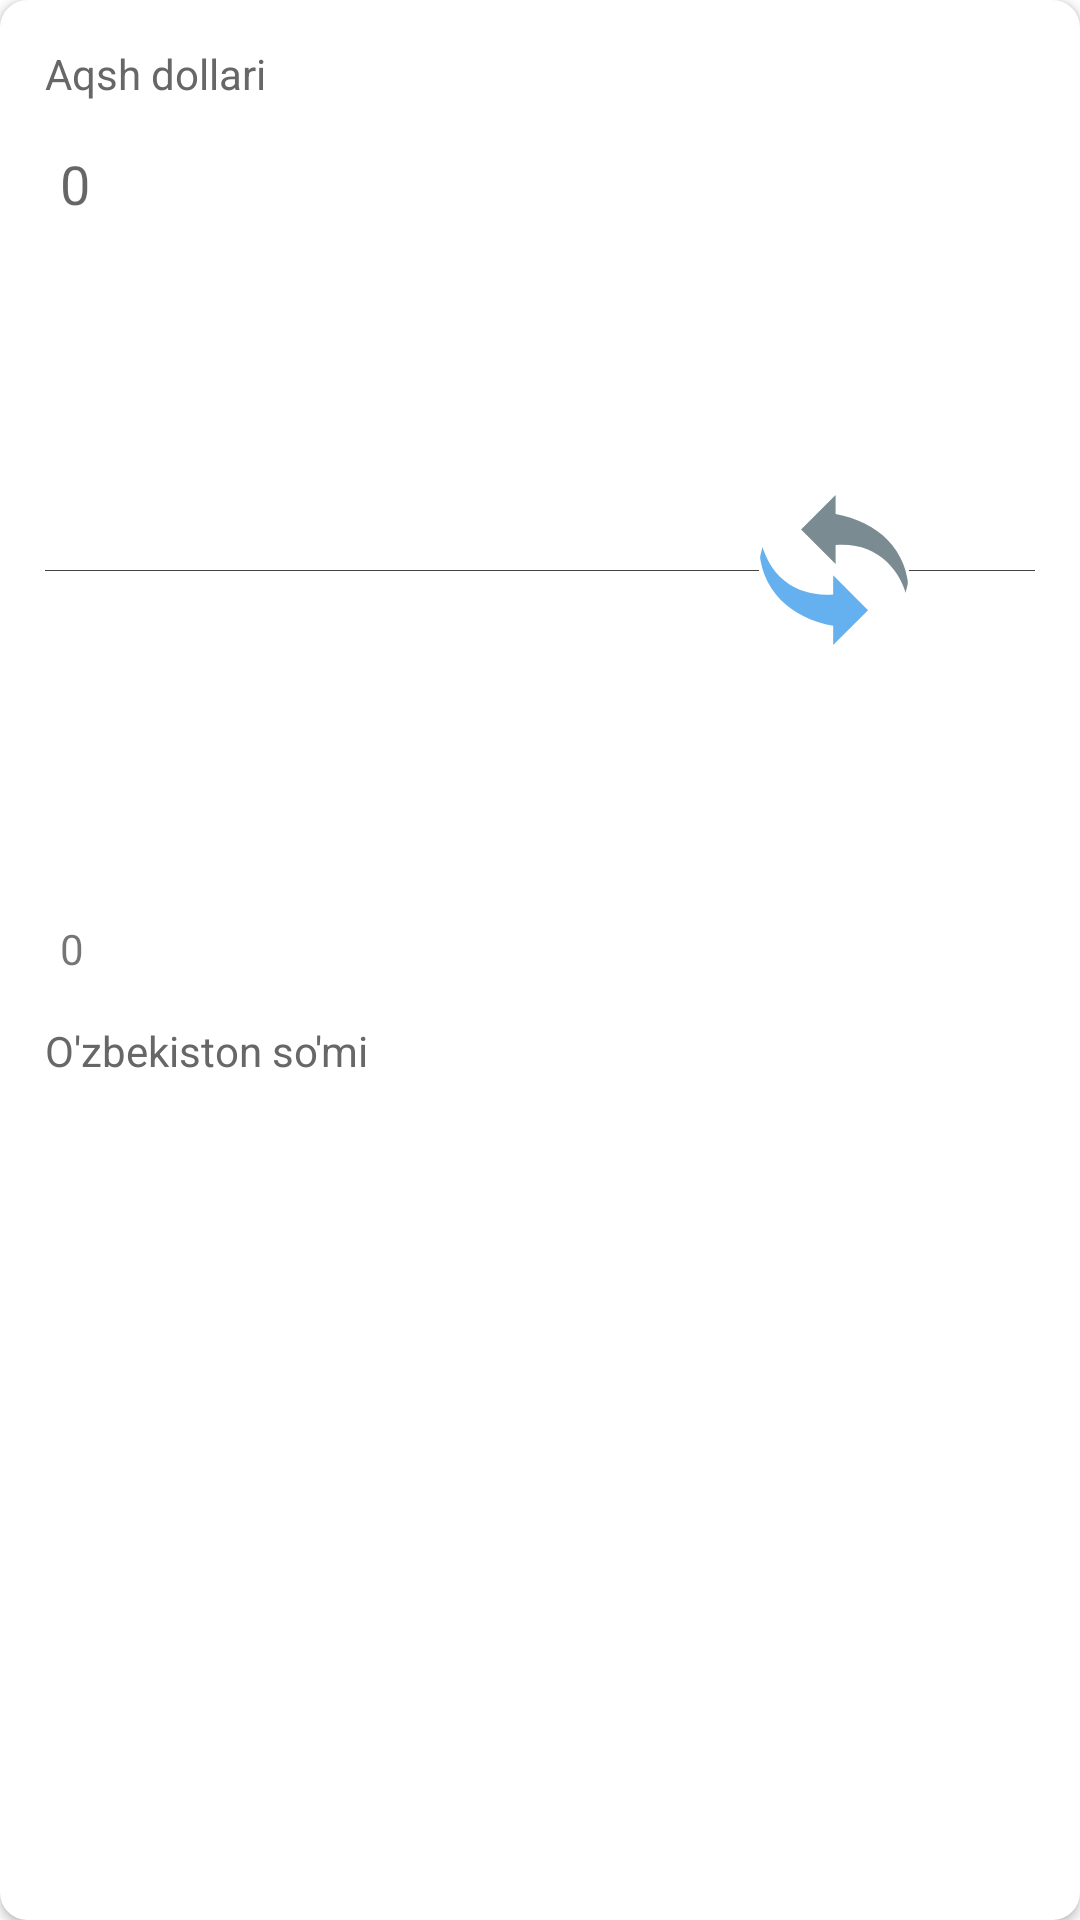

Named icons in this screenshot (1080 × 1920) and their centers, [x,y]:
refresh valyuta: [834,570]
